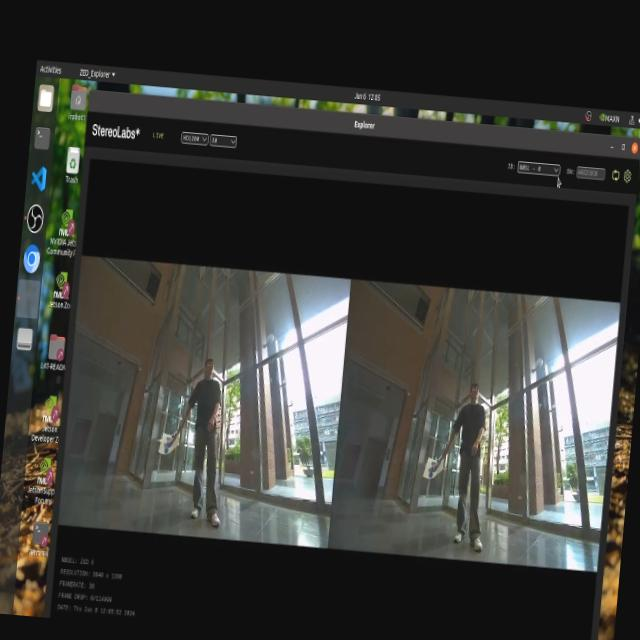blue: (423, 454, 448, 477), (160, 430, 182, 456)
